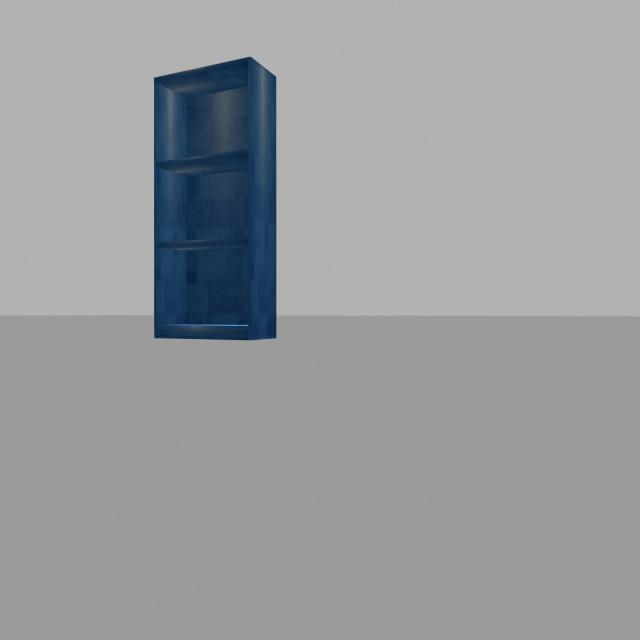shelf: (144, 49, 288, 354)
